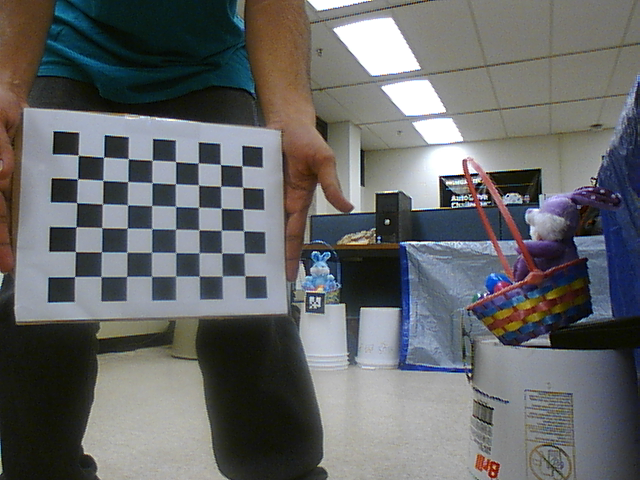bunny: (453, 153, 598, 348)
